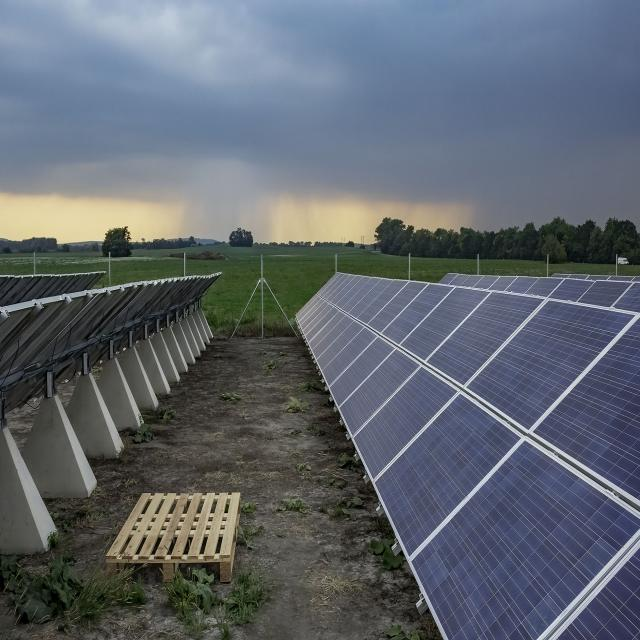clean-solar-panel: (296, 273, 640, 639)
